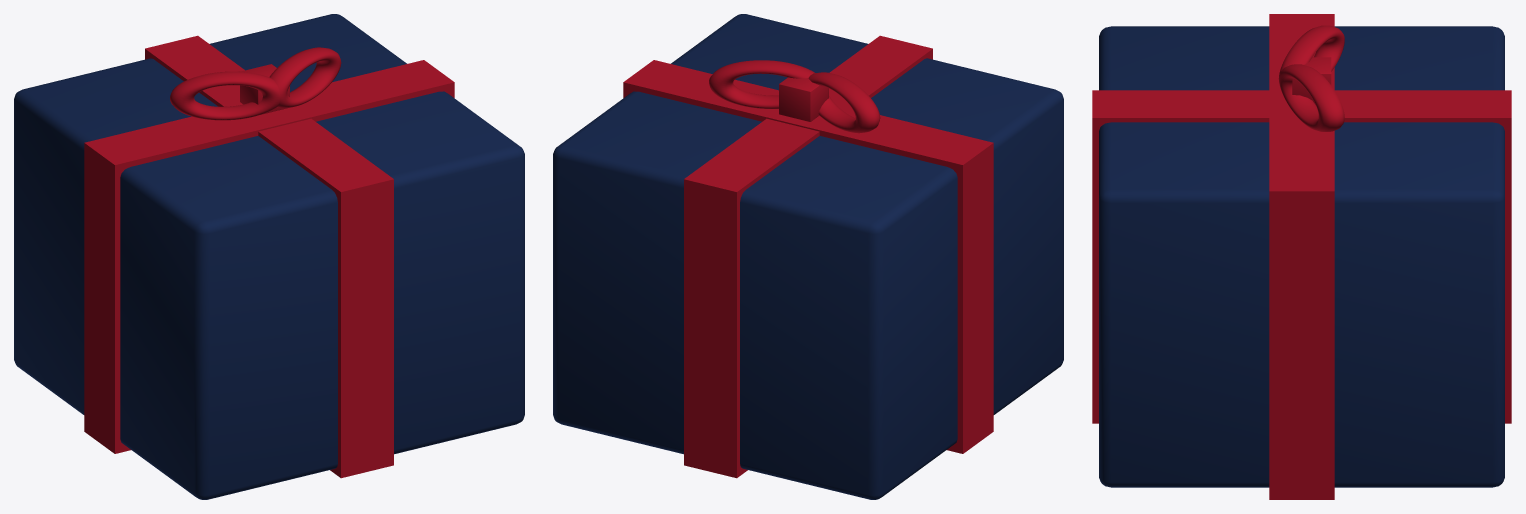
The model's file is present.glb.
3 views of the same model, side by side, from view 1: azimuth 30°, elevation 25°; view 2: azimuth 150°, elevation 25°; view 3: azimuth 270°, elevation 25° (orthographic). The views are drawn at different scales.
Visible parts, largest first — view 1: GiftBox, StrapY, StrapX, LoopL, LoopR, Knot; view 2: GiftBox, StrapY, StrapX, LoopR, LoopL, Knot; view 3: GiftBox, StrapX, StrapY, LoopR, LoopL, Knot.
Boxes of the visible parts, left/top/right/bottom form: GiftBox: left=14, top=14, right=524, bottom=499; StrapY: left=145, top=35, right=393, bottom=478; StrapX: left=84, top=60, right=454, bottom=453; LoopL: left=170, top=71, right=280, bottom=120; LoopR: left=269, top=47, right=341, bottom=108; Knot: left=240, top=64, right=289, bottom=113; GiftBox: left=553, top=14, right=1063, bottom=499; StrapY: left=684, top=35, right=932, bottom=478; StrapX: left=623, top=60, right=993, bottom=453; LoopR: left=709, top=60, right=815, bottom=108; LoopL: left=808, top=72, right=880, bottom=133; Knot: left=779, top=77, right=828, bottom=121; GiftBox: left=1099, top=26, right=1504, bottom=487; StrapX: left=1269, top=14, right=1334, bottom=499; StrapY: left=1092, top=90, right=1511, bottom=423; LoopR: left=1279, top=64, right=1344, bottom=131; LoopL: left=1279, top=25, right=1344, bottom=73; Knot: left=1292, top=57, right=1331, bottom=104.
Size of the model in its own units: 0.64 by 0.5999 by 0.64.
